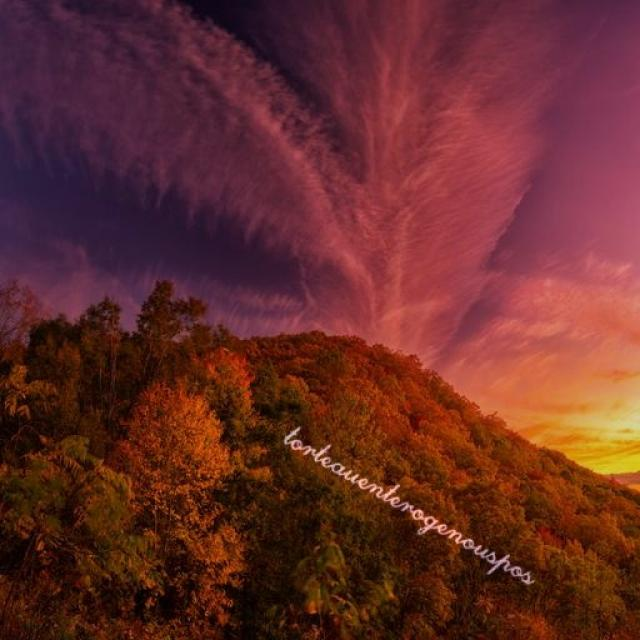watermark: (275, 419, 551, 590)
